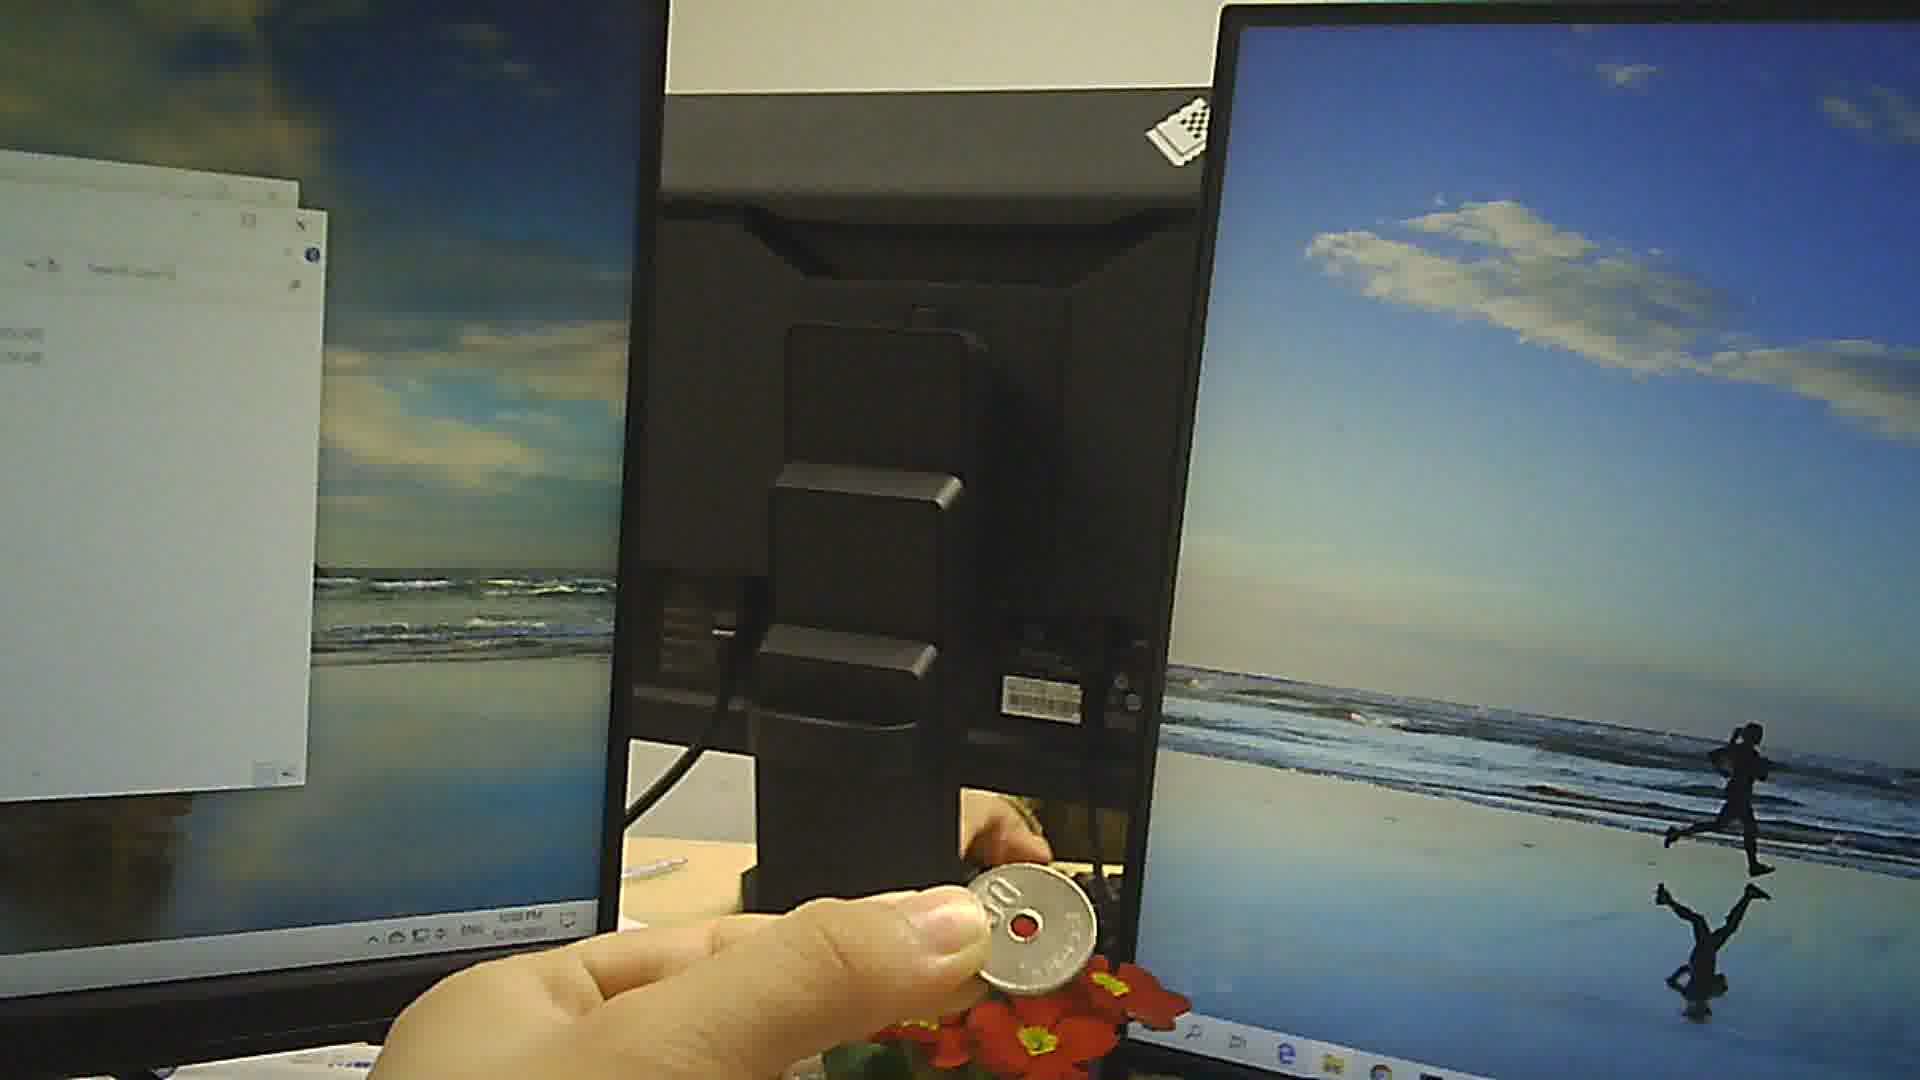50 Yen: (952, 858, 1098, 997)
